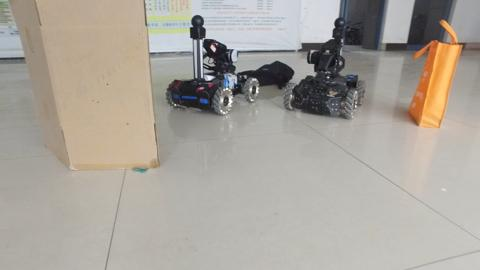bag: (413, 19, 459, 130)
chariot: (165, 13, 260, 118), (280, 18, 369, 118)
